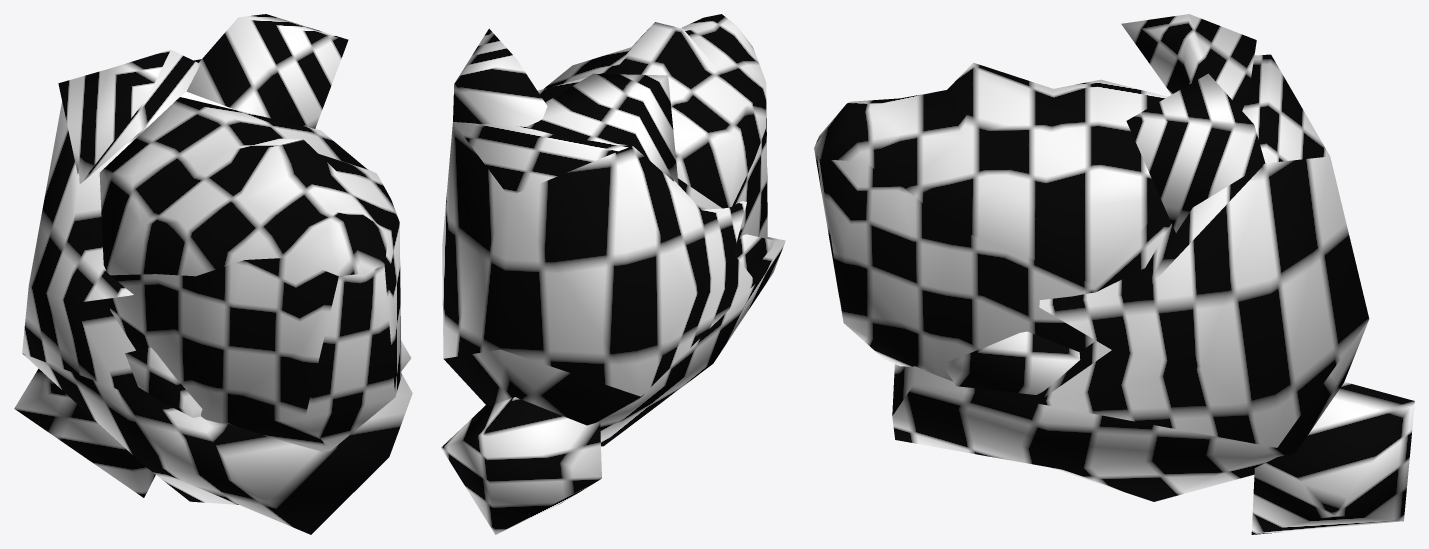
The model's file is infaunhufeth3.dae.
The picture shows the model from 3 angles, left to right: view 1: azimuth 30°, elevation 25°; view 2: azimuth 150°, elevation 25°; view 3: azimuth 270°, elevation 25°; orthographic projection. The views are drawn at different scales.
Parts seen in each view (by area): view 1: face; view 2: face; view 3: face.
Part boxes in pixels (x1,y1,x2,y2): face: (14, 14, 412, 534); face: (441, 14, 785, 534); face: (814, 14, 1414, 534).
Size of the model in its own units: 0.941 by 1.59 by 1.45.
Materials: 1 (1 with a texture image).
